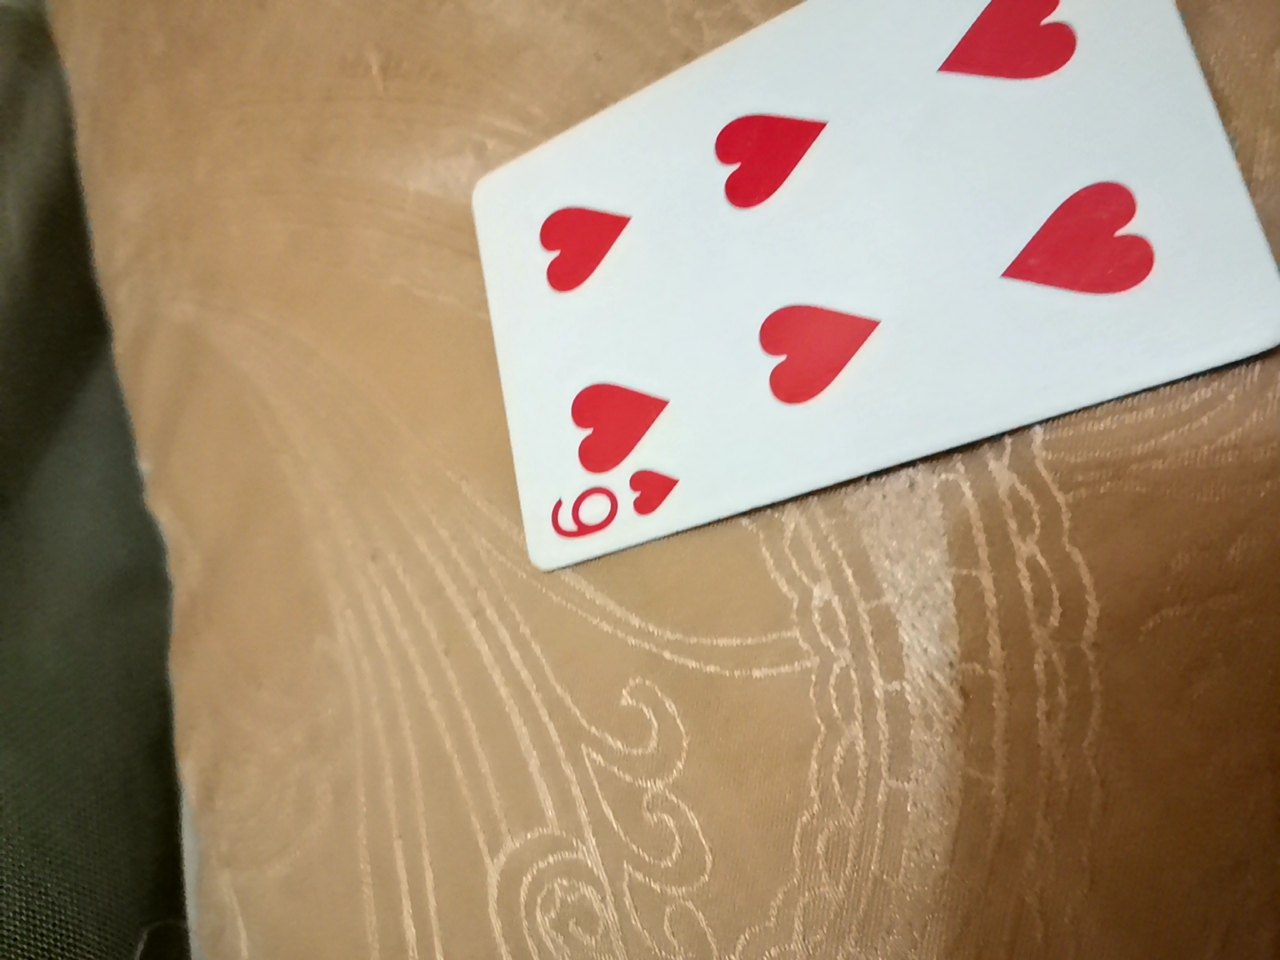hx 6: (470, 7, 1271, 541)
